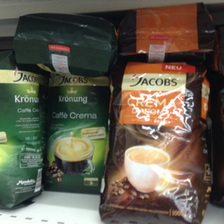coffee: (90, 60, 208, 224), (44, 68, 112, 197), (1, 49, 43, 211), (14, 12, 121, 74)
